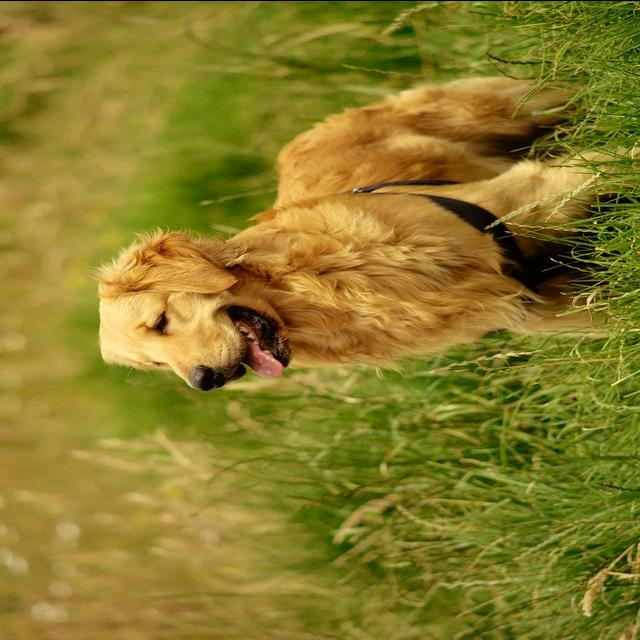retriever: (91, 73, 638, 391)
